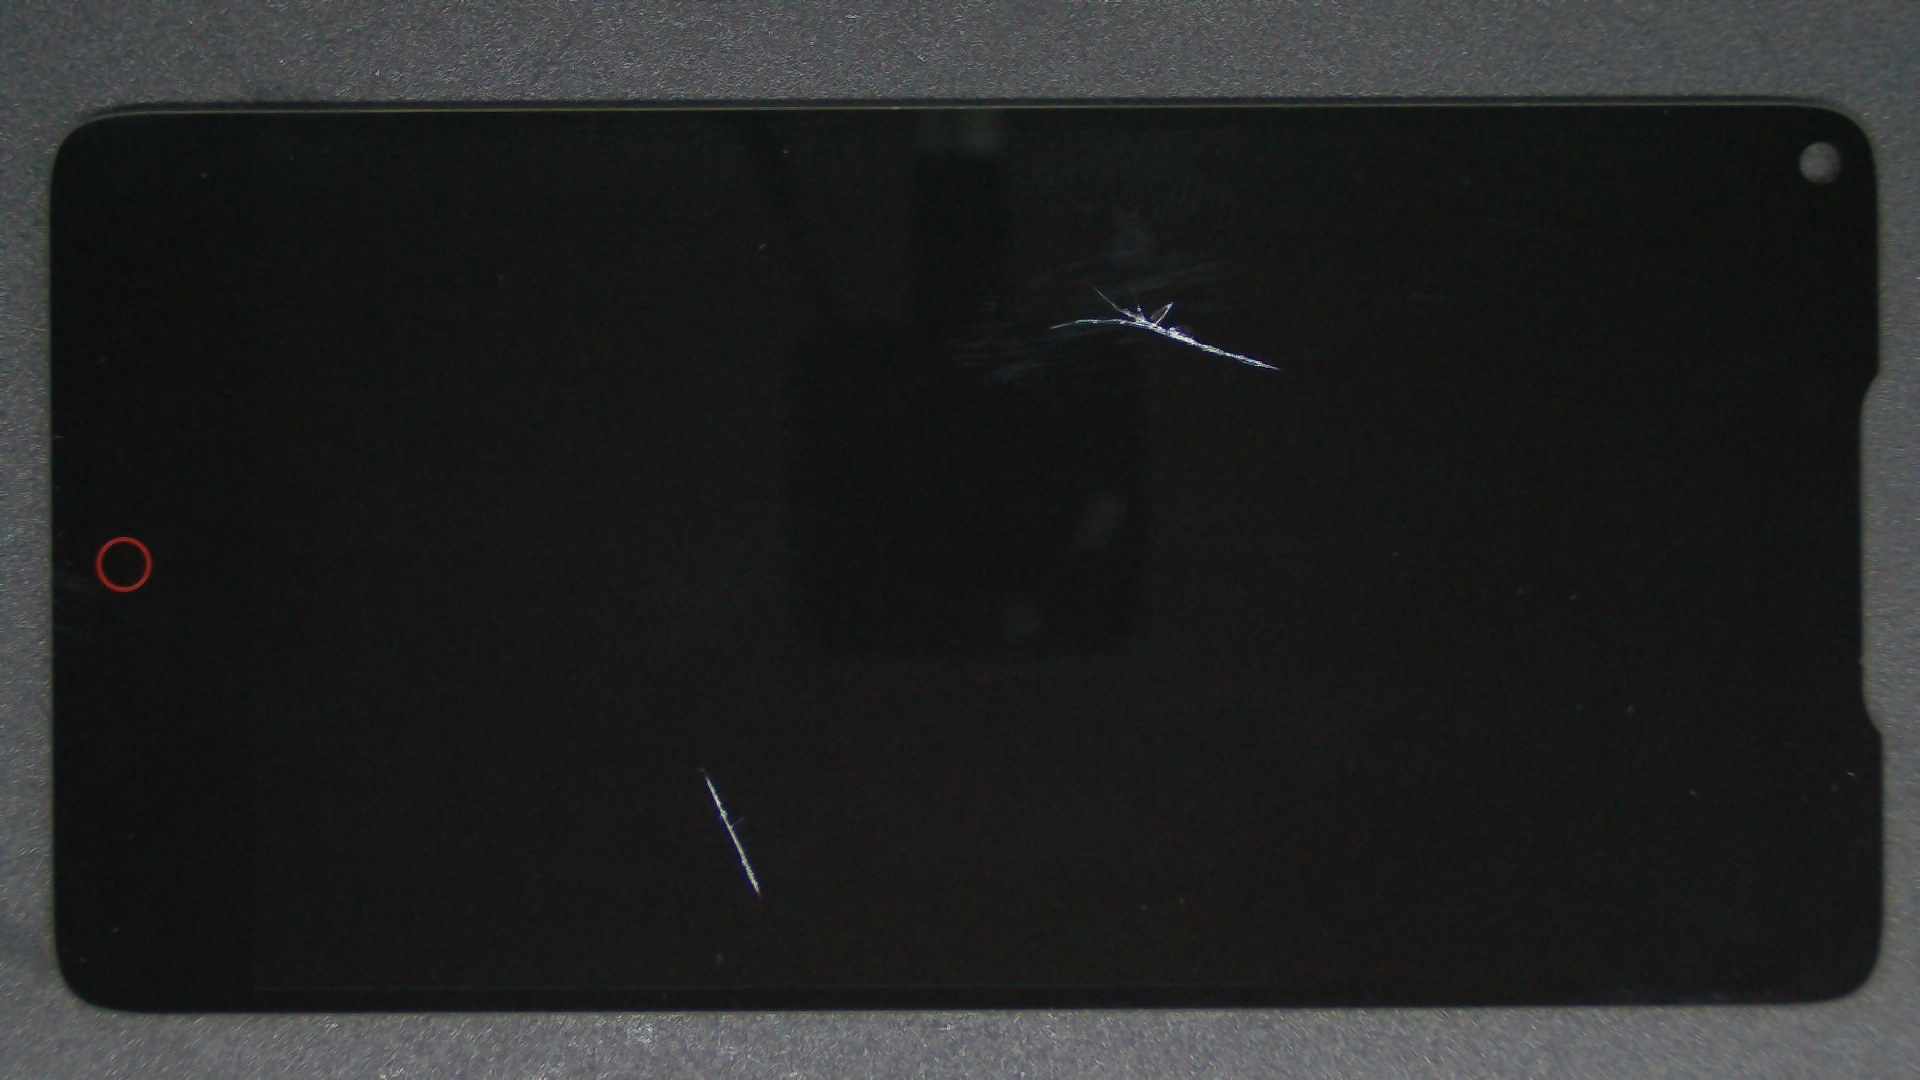oil: (352, 386, 1056, 1080), (550, 141, 1643, 430)
